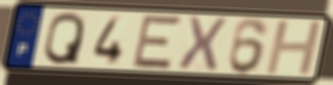4: (91, 15, 125, 67)
6: (227, 16, 269, 77)
E: (129, 13, 184, 71)
H: (263, 19, 325, 77)
Q: (41, 11, 87, 67)
X: (175, 15, 229, 73)
